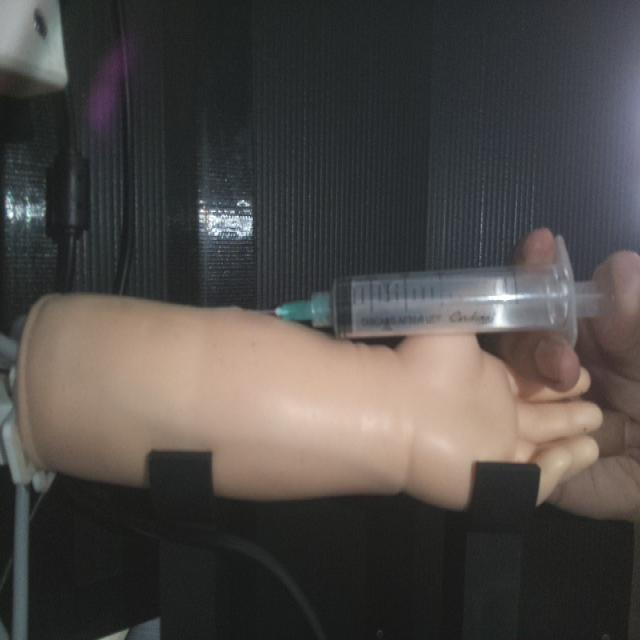Below 15 degrees: (262, 233, 611, 347)
